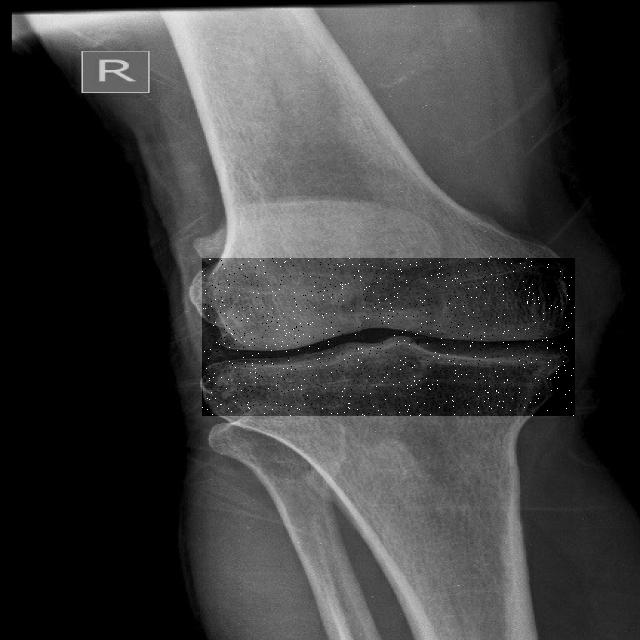osteo: (202, 258, 575, 416)
